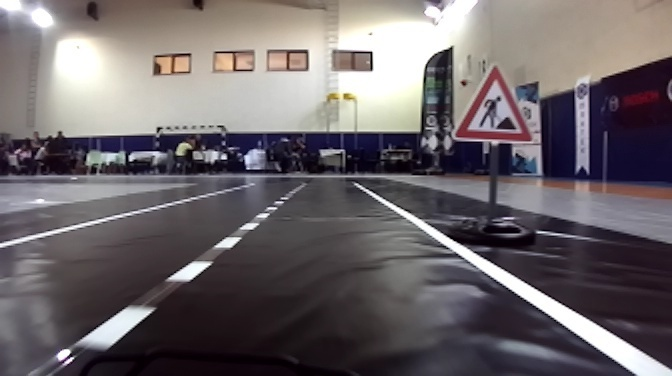yol_yapimi: (437, 64, 541, 143)
